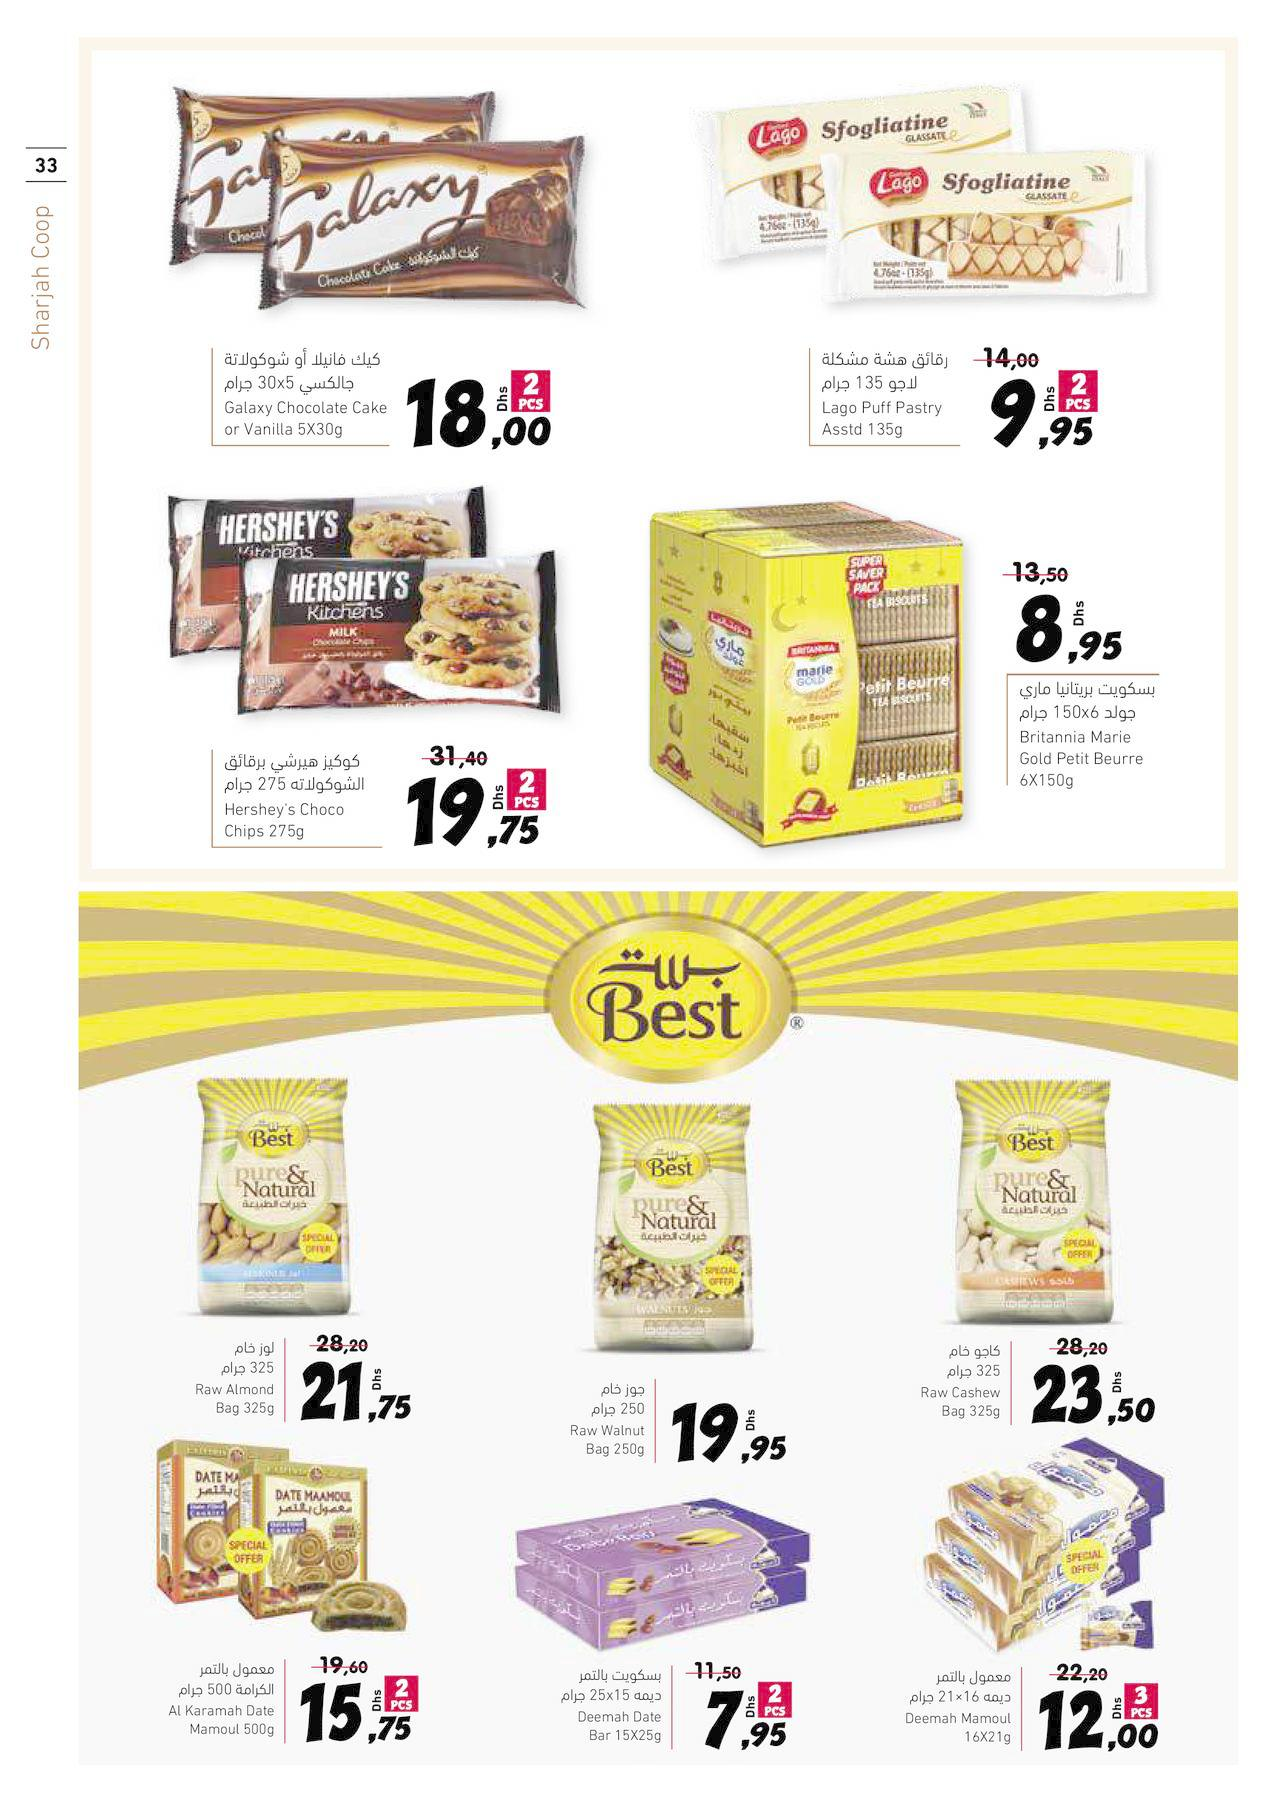text: (1008, 676, 1164, 795), (218, 344, 395, 442), (218, 746, 371, 844), (811, 346, 959, 442), (898, 1664, 1020, 1753), (161, 1655, 281, 1745), (552, 1660, 670, 1748), (911, 1339, 1008, 1425), (192, 1330, 281, 1419)
